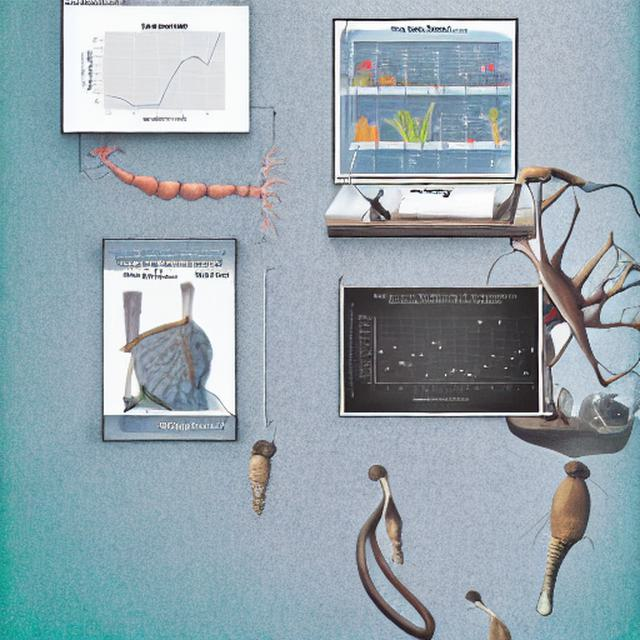Graph: (344, 290, 538, 407), (84, 11, 241, 129)
